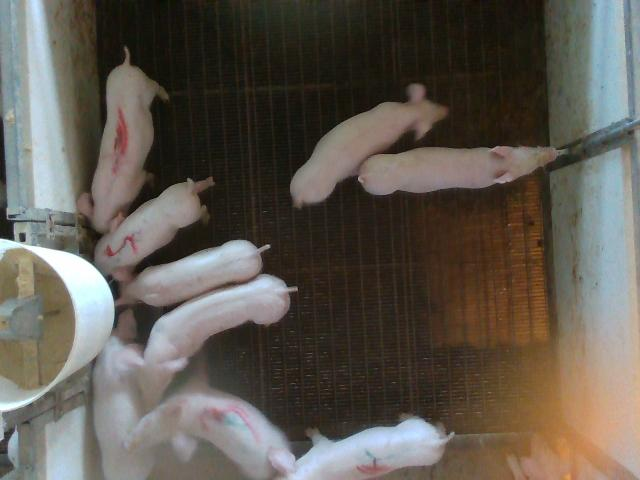pig-1: (78, 48, 169, 233)
pig-3: (126, 384, 294, 478)
pig-4: (266, 416, 454, 479)
pig-5: (95, 178, 212, 275)
